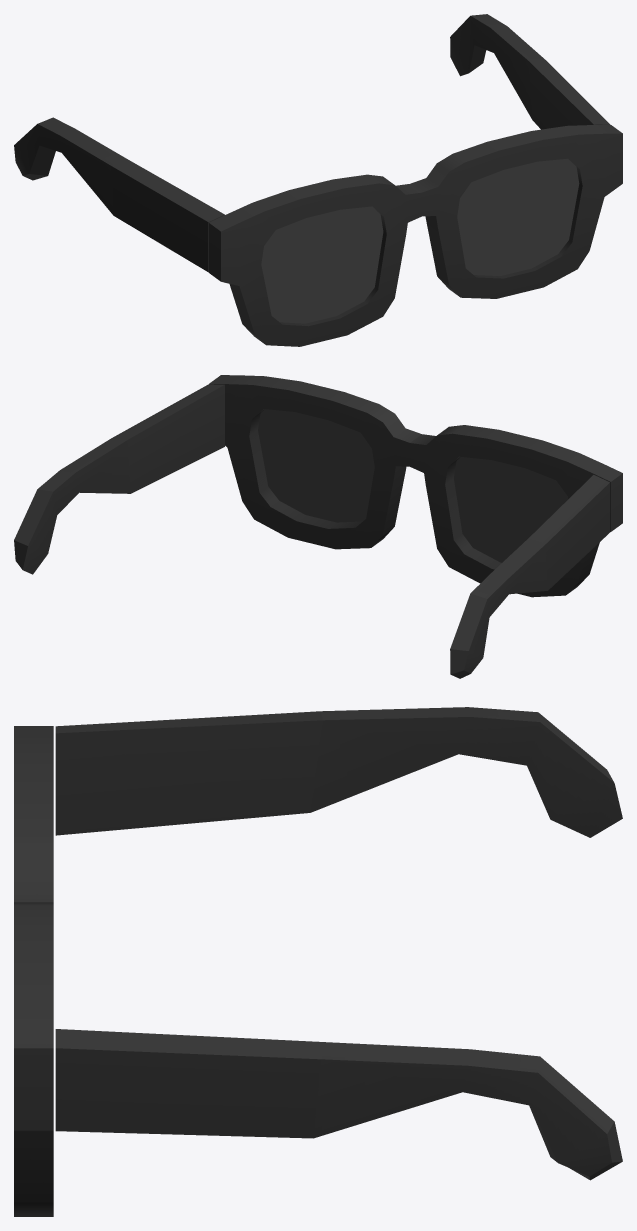
The model's file is Eyewear_2.fbx.
3 views of the same model, one above another, from view 1: azimuth 30°, elevation 25°; view 2: azimuth 150°, elevation 25°; view 3: azimuth 270°, elevation 25° (orthographic). The views are drawn at different scales.
Parts seen in each view (by area): view 1: Eyewear_2; view 2: Eyewear_2; view 3: Eyewear_2.
Part boxes in pixels (x1,y1,x2,y2): Eyewear_2: (14,14,622,346); Eyewear_2: (14,375,622,678); Eyewear_2: (14,707,622,1216).
Bounding box in the file's own units: 70.77 × 21.97 × 49.96.
